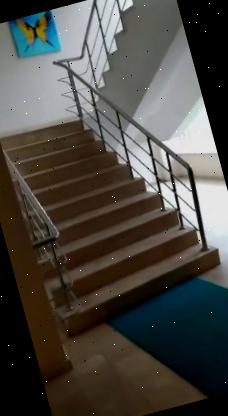stair: (0, 80, 225, 337)
